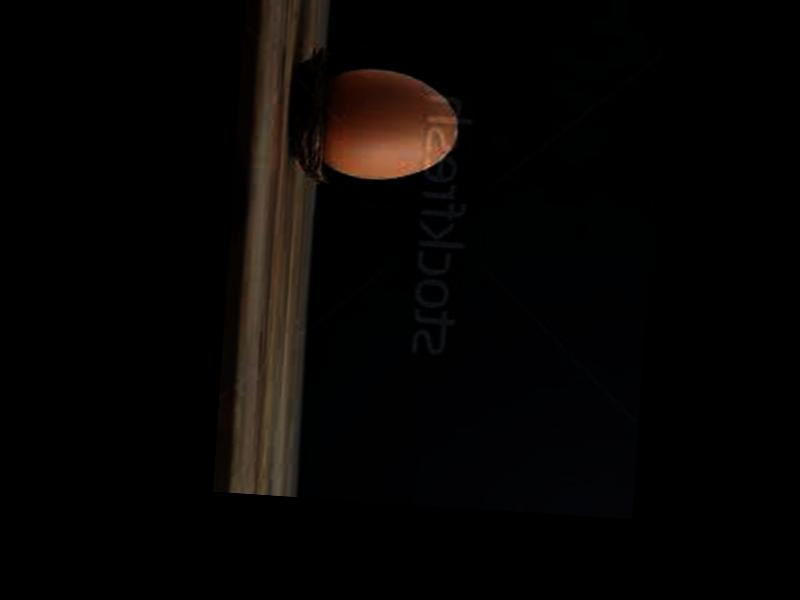Eggs: (318, 63, 461, 182)
